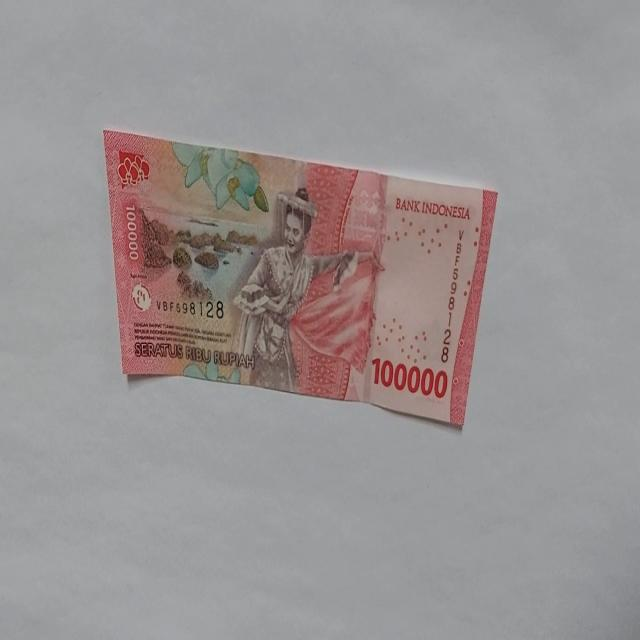seratus ribu rupiah: (101, 127, 498, 429), (230, 186, 360, 394)
